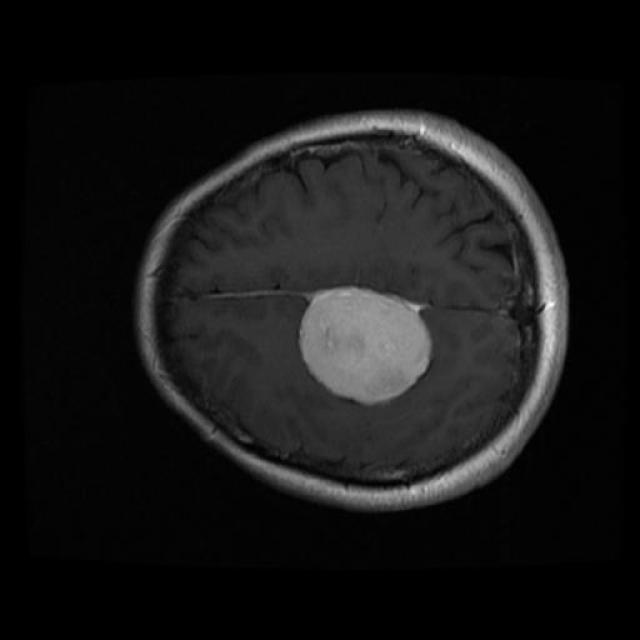Meningioma: (299, 287, 431, 405)
